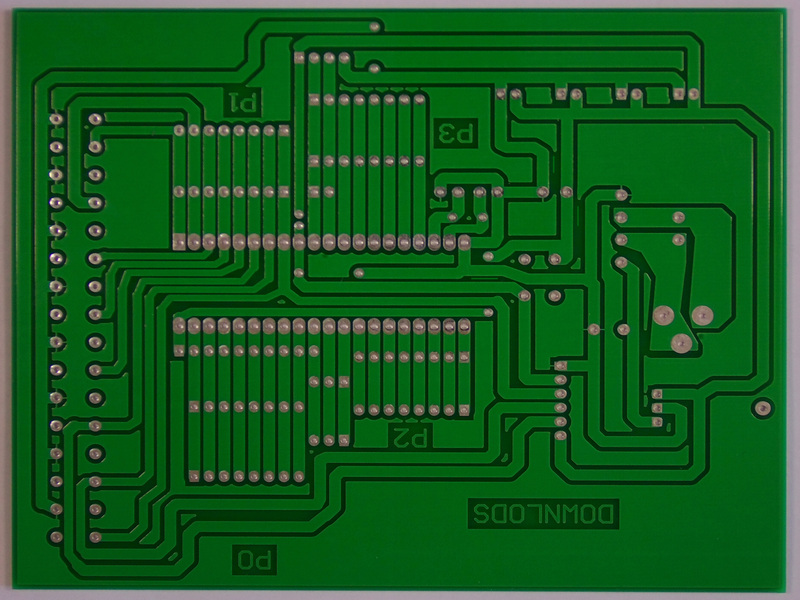spurious_copper: (576, 204, 580, 228), (471, 277, 499, 280), (552, 155, 555, 174)
